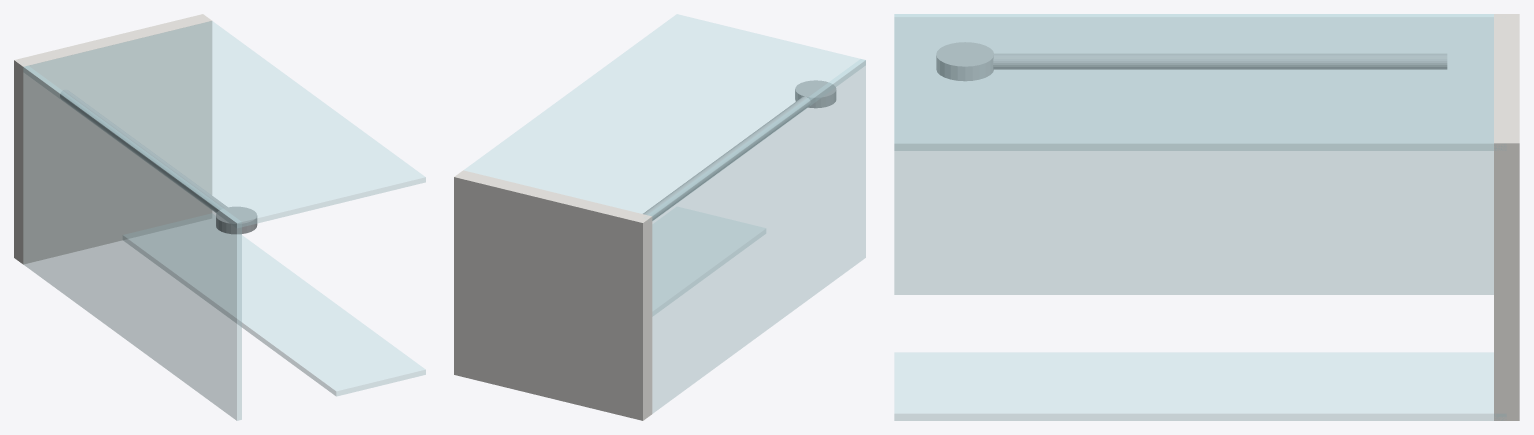
The model's file is shower_enclosure.glb.
The picture shows the model from 3 angles, left to right: view 1: azimuth 30°, elevation 25°; view 2: azimuth 150°, elevation 25°; view 3: azimuth 270°, elevation 25°; orthographic projection. The views are drawn at different scales.
Visible parts, largest first — view 1: world; view 2: world; view 3: world.
Part boxes in pixels (x1,y1,x2,y2): world: (14, 14, 425, 420); world: (454, 14, 865, 420); world: (894, 14, 1519, 420).
Bounding box in the file's own units: 0.95 × 0.95 × 1.94.
